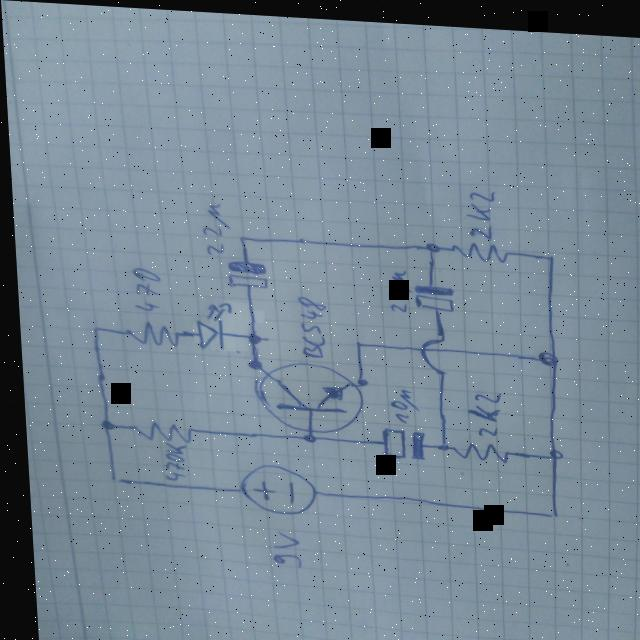capacitor: (374, 423, 421, 457), (222, 257, 265, 288), (409, 279, 453, 308)
crossover: (412, 328, 447, 373)
diode: (189, 298, 229, 349)
junction: (530, 344, 555, 362), (419, 235, 441, 252), (539, 442, 560, 457), (535, 245, 555, 260), (294, 427, 315, 441), (536, 501, 555, 516), (93, 417, 112, 431), (240, 354, 259, 368), (428, 438, 446, 452), (241, 328, 258, 342), (347, 334, 364, 347), (232, 230, 248, 243), (350, 372, 366, 385), (85, 323, 100, 335), (102, 473, 117, 484)
resistor: (116, 319, 179, 347), (125, 417, 190, 442), (444, 236, 509, 259), (444, 436, 508, 459)
source: (230, 459, 315, 515)
text: (291, 292, 326, 356), (460, 385, 499, 432), (462, 182, 495, 236), (196, 199, 227, 255), (126, 265, 158, 311), (262, 526, 295, 566), (383, 381, 414, 420), (156, 440, 184, 482), (382, 265, 408, 309)
transistor: (247, 355, 362, 432)
